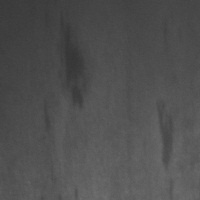inclusion: (53, 6, 96, 115), (151, 89, 181, 174), (35, 94, 57, 137), (159, 16, 176, 51)
